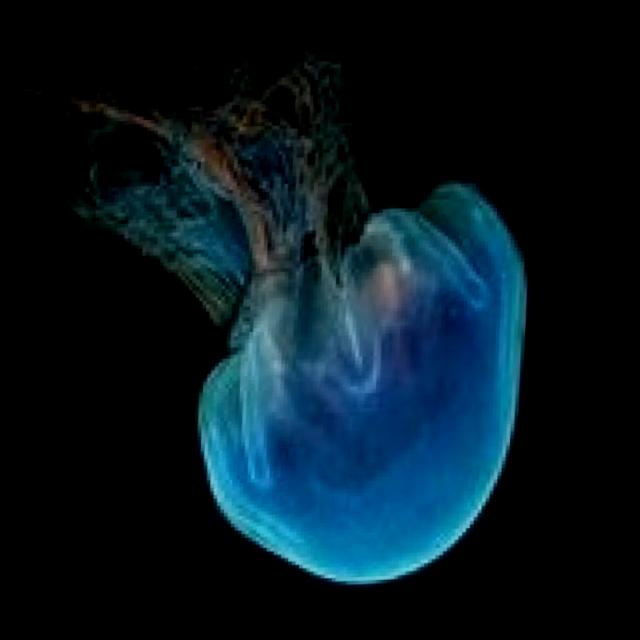Box-jellyfish: (0, 22, 560, 606)
